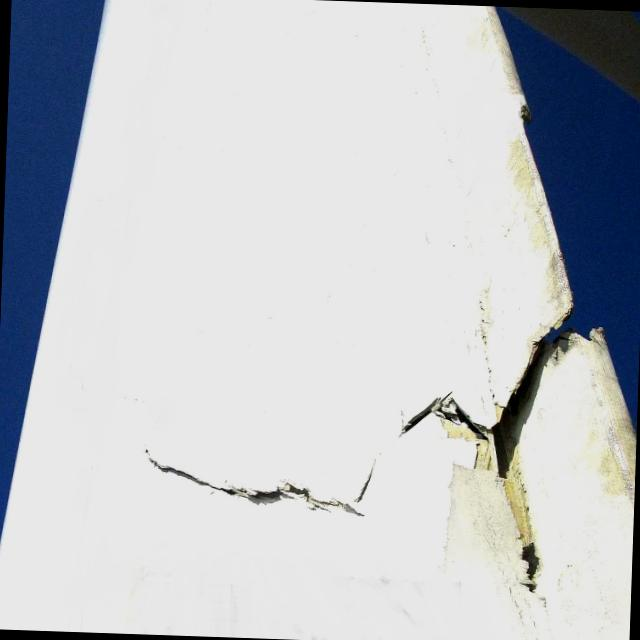crack: (392, 294, 609, 588), (137, 439, 376, 518)
